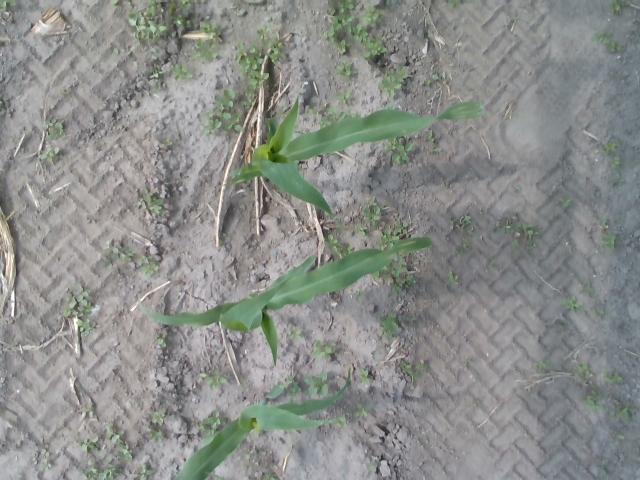Maize: (139, 237, 434, 366), (224, 94, 486, 232), (174, 368, 350, 480)
Weeds: (231, 26, 285, 102), (325, 0, 388, 58), (76, 422, 136, 480), (128, 0, 194, 52), (99, 238, 159, 278), (60, 283, 101, 340), (489, 218, 541, 258), (203, 89, 244, 135), (192, 18, 225, 66), (388, 256, 418, 296), (377, 64, 408, 98), (356, 196, 382, 236), (380, 138, 414, 166), (30, 438, 56, 472), (135, 187, 164, 214), (580, 382, 606, 412), (590, 29, 622, 53), (380, 220, 410, 244), (378, 312, 402, 342), (303, 372, 330, 398), (196, 408, 223, 434), (399, 360, 428, 384), (198, 370, 227, 393), (43, 115, 68, 141), (608, 398, 637, 420), (449, 214, 474, 238), (310, 339, 336, 361), (171, 62, 196, 82), (426, 128, 444, 155), (318, 106, 340, 128), (40, 144, 61, 164), (424, 62, 441, 86), (288, 376, 303, 403), (334, 88, 354, 108), (0, 94, 16, 118), (337, 61, 358, 79), (286, 324, 304, 344), (562, 294, 582, 312), (134, 464, 156, 480), (324, 234, 343, 252), (146, 66, 170, 80), (357, 367, 372, 386), (454, 243, 472, 258), (602, 234, 617, 252), (603, 371, 623, 384), (354, 404, 372, 418), (572, 363, 592, 375), (608, 0, 624, 15), (77, 406, 96, 418), (154, 332, 168, 348), (578, 282, 593, 296), (152, 409, 164, 426), (534, 360, 548, 374), (602, 140, 616, 154), (448, 270, 460, 286), (150, 80, 166, 92), (148, 429, 162, 442), (0, 0, 18, 10), (599, 458, 608, 477), (614, 428, 626, 442), (0, 33, 15, 44), (560, 196, 573, 208), (594, 309, 606, 322), (462, 356, 474, 368), (608, 156, 620, 168), (344, 243, 356, 254), (335, 416, 346, 428), (615, 322, 626, 334), (262, 472, 278, 480), (616, 171, 625, 185), (162, 138, 174, 148), (242, 378, 252, 390), (474, 396, 484, 408), (340, 110, 359, 116), (128, 0, 138, 11), (219, 231, 226, 246), (110, 44, 120, 54), (386, 102, 398, 110), (557, 321, 567, 330), (244, 450, 253, 460), (306, 107, 317, 115), (447, 0, 461, 6), (368, 463, 377, 472), (356, 290, 364, 300), (111, 0, 122, 6), (488, 260, 496, 268), (513, 186, 523, 192), (60, 89, 70, 95), (526, 388, 532, 395), (602, 219, 607, 226), (424, 437, 429, 444)
